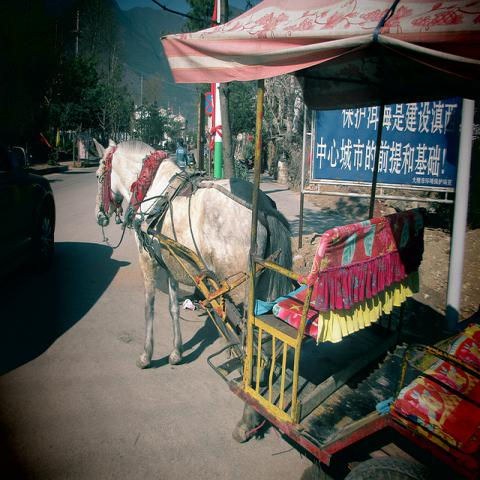car: (1, 141, 57, 270)
